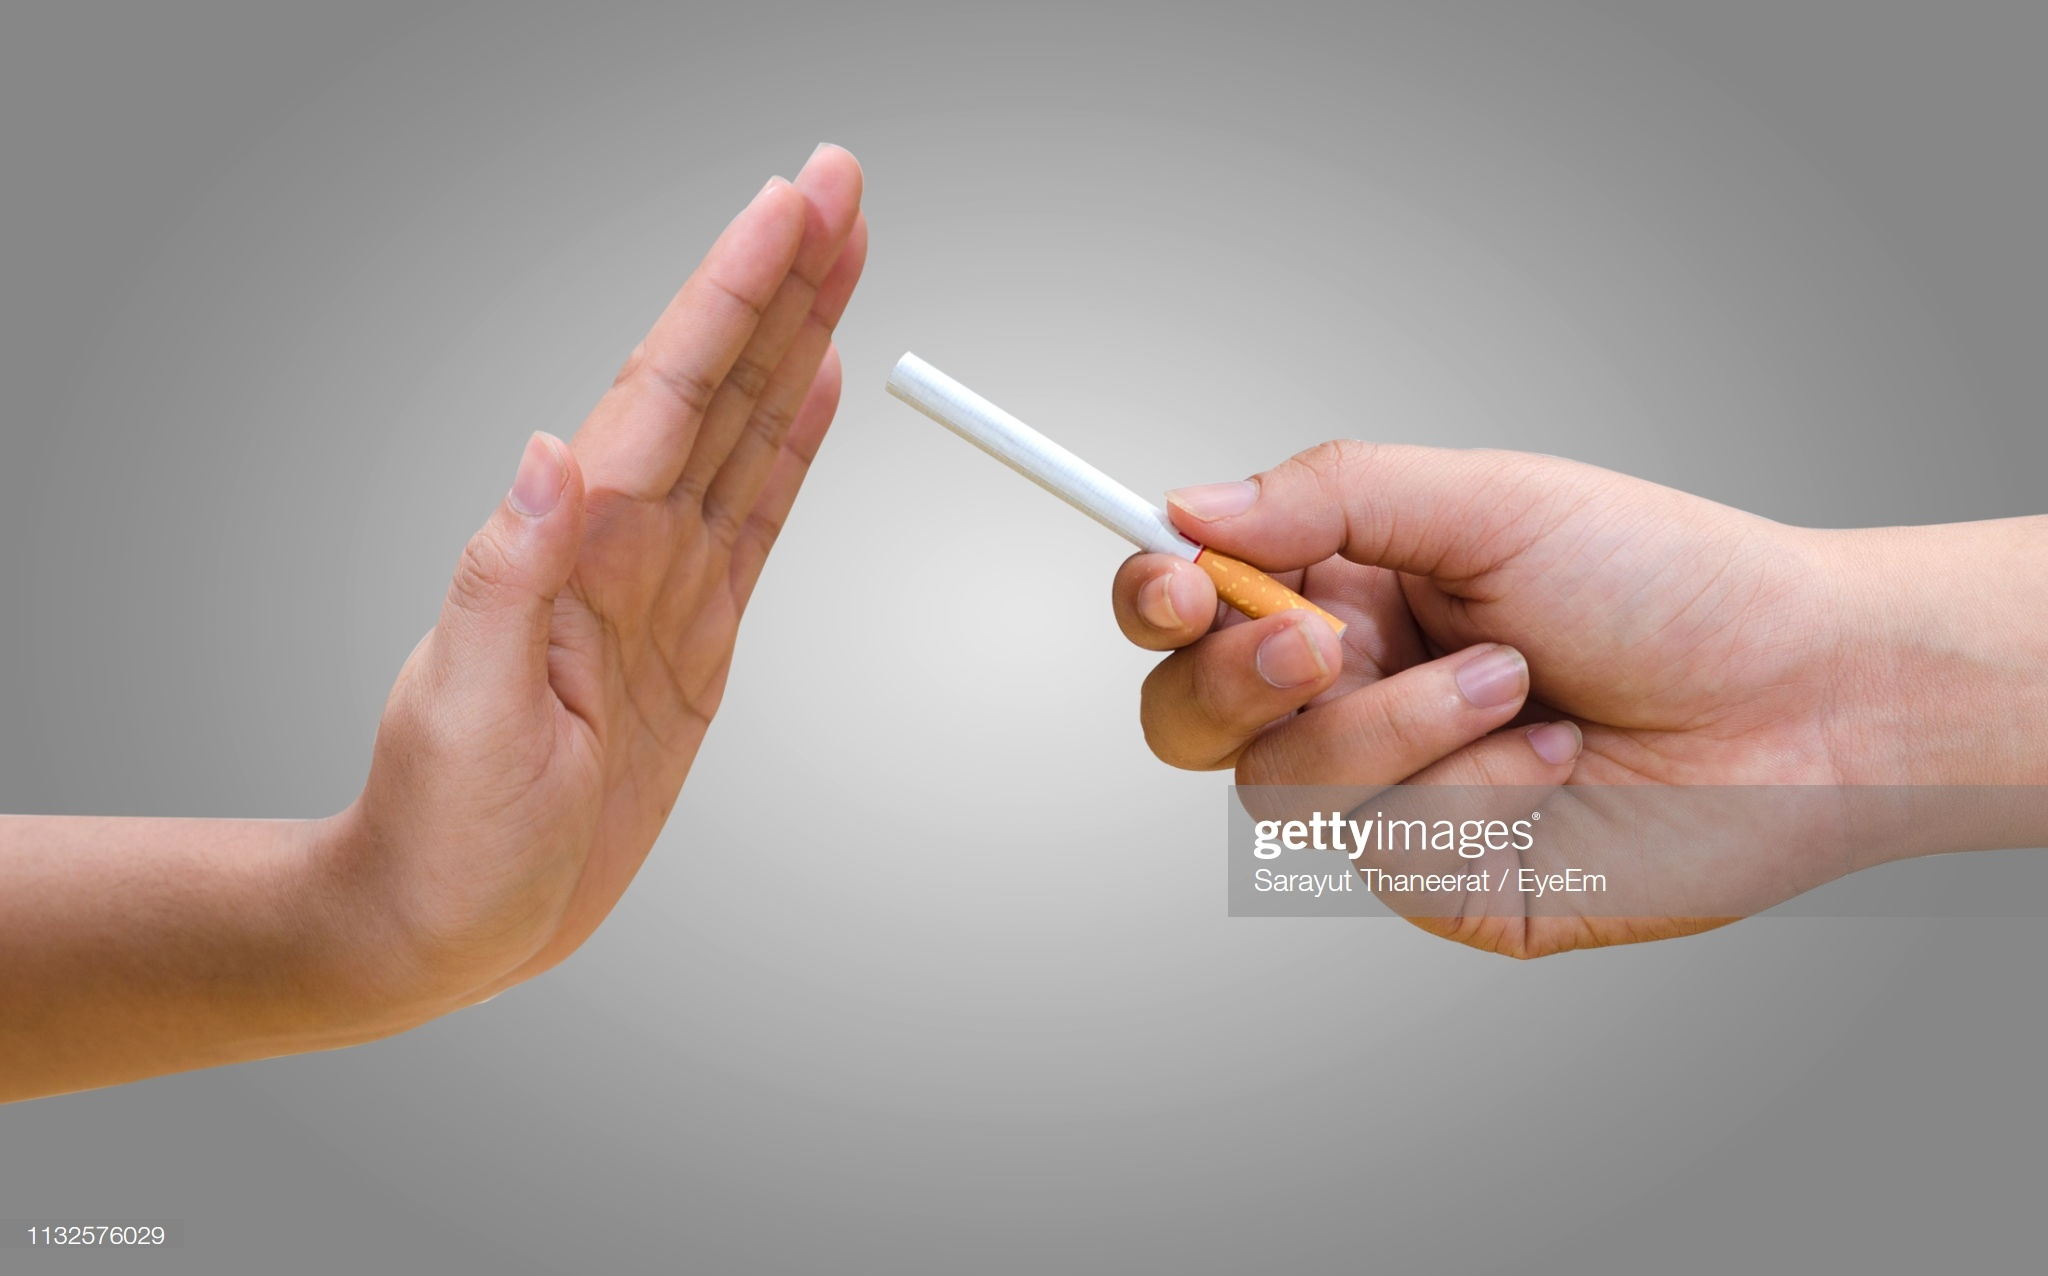sigaretta: (881, 350, 1373, 667)
